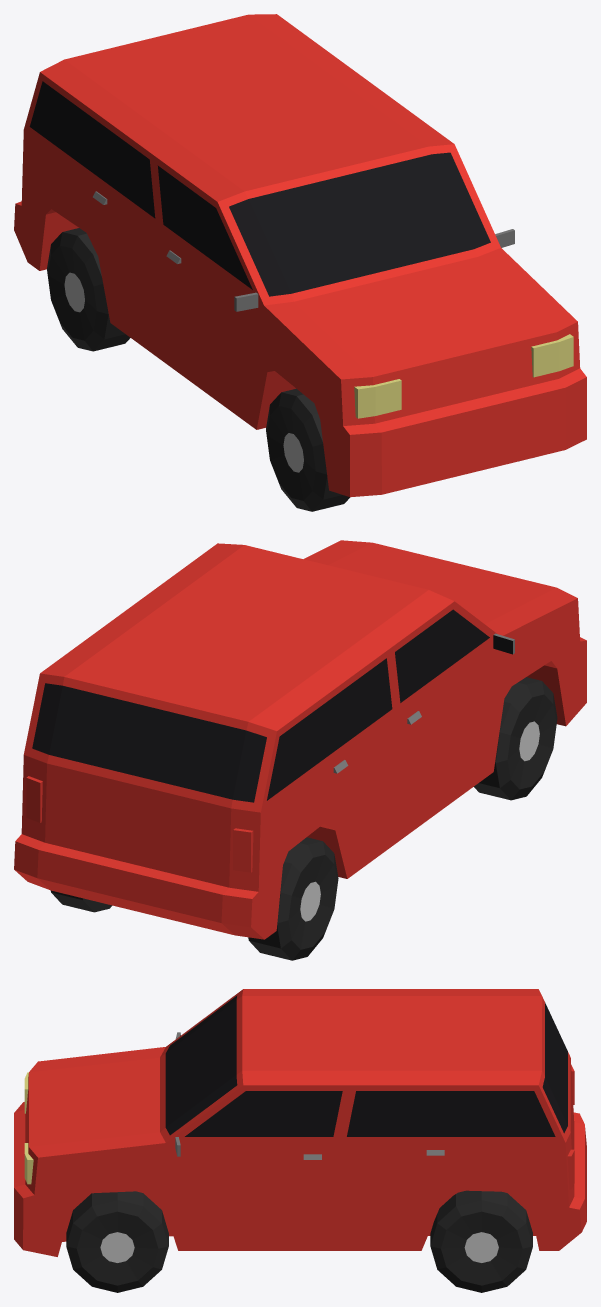
The model's file is SUV_04.fbx.
3 views of the same model, one above another, from view 1: azimuth 30°, elevation 25°; view 2: azimuth 150°, elevation 25°; view 3: azimuth 270°, elevation 25° (orthographic). The views are drawn at different scales.
Parts seen in each view (by area): view 1: SUV_04; view 2: SUV_04; view 3: SUV_04.
Part boxes in pixels (x1=…): SUV_04: x1=14, y1=14, x2=586, y2=511; SUV_04: x1=14, y1=540, x2=586, y2=960; SUV_04: x1=14, y1=989, x2=586, y2=1292.
Bounding box in the file's own units: 3.42 × 3.01 × 7.33.
